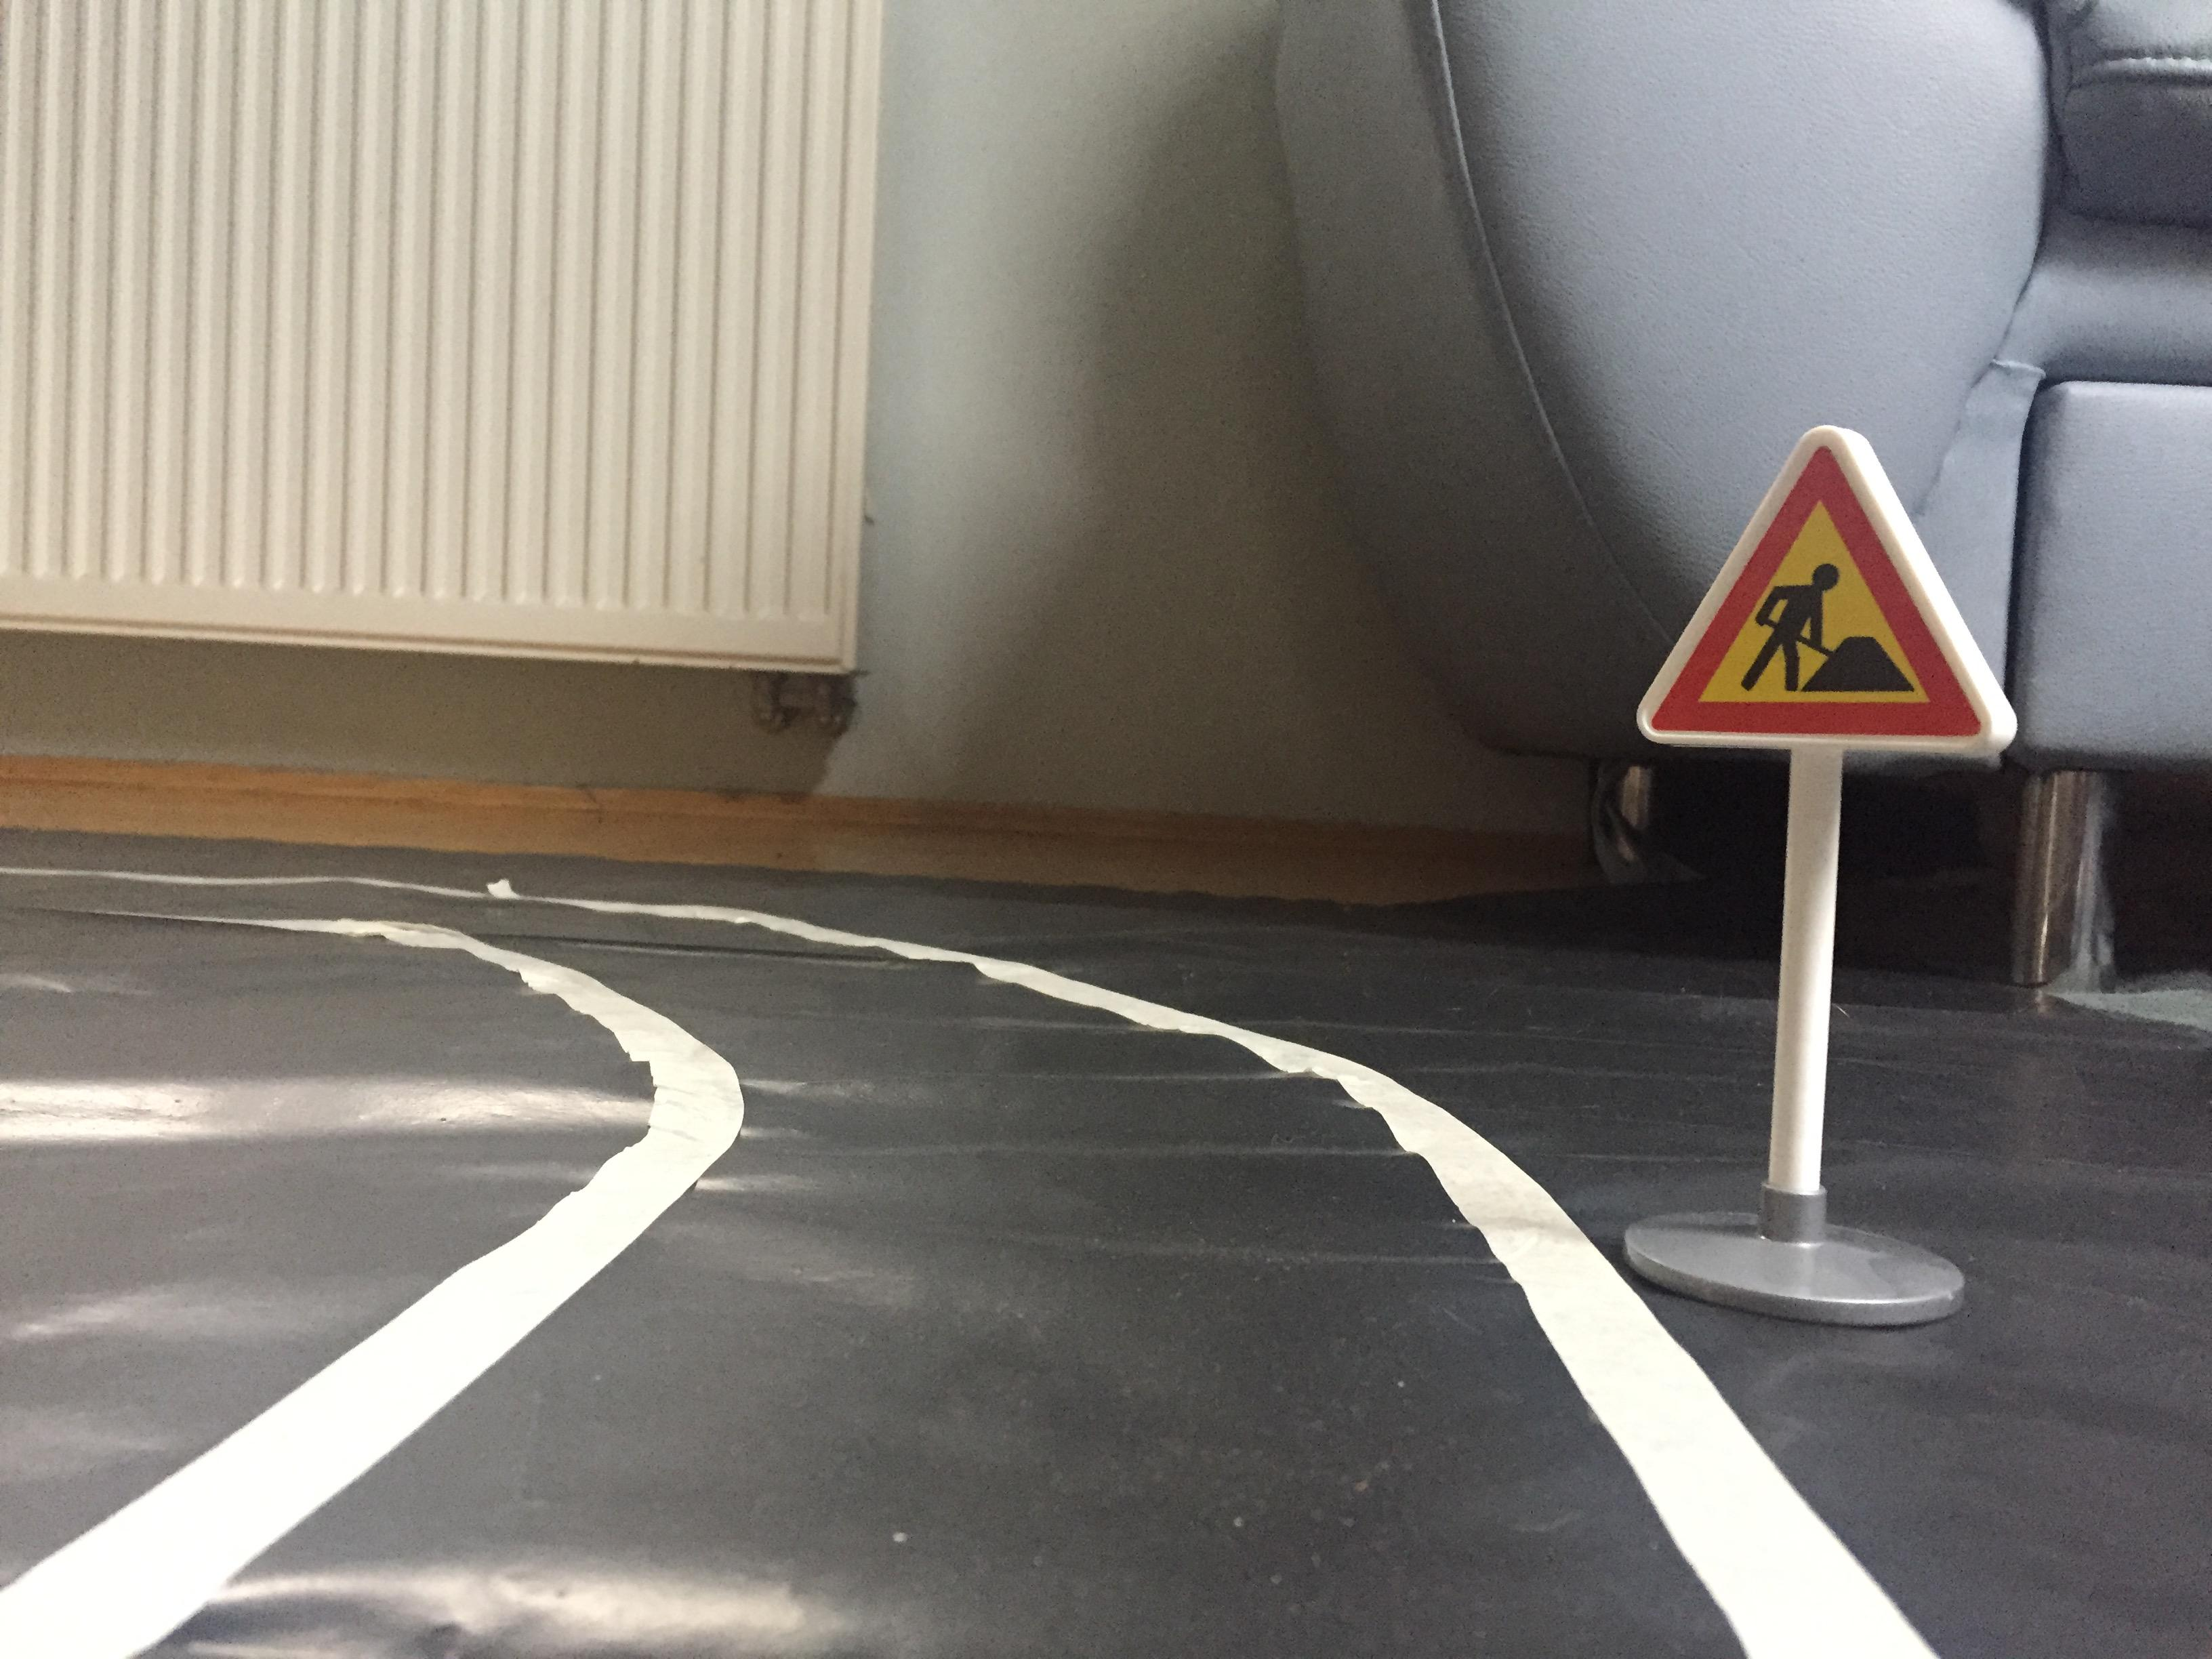work: (1629, 413, 2036, 762)
